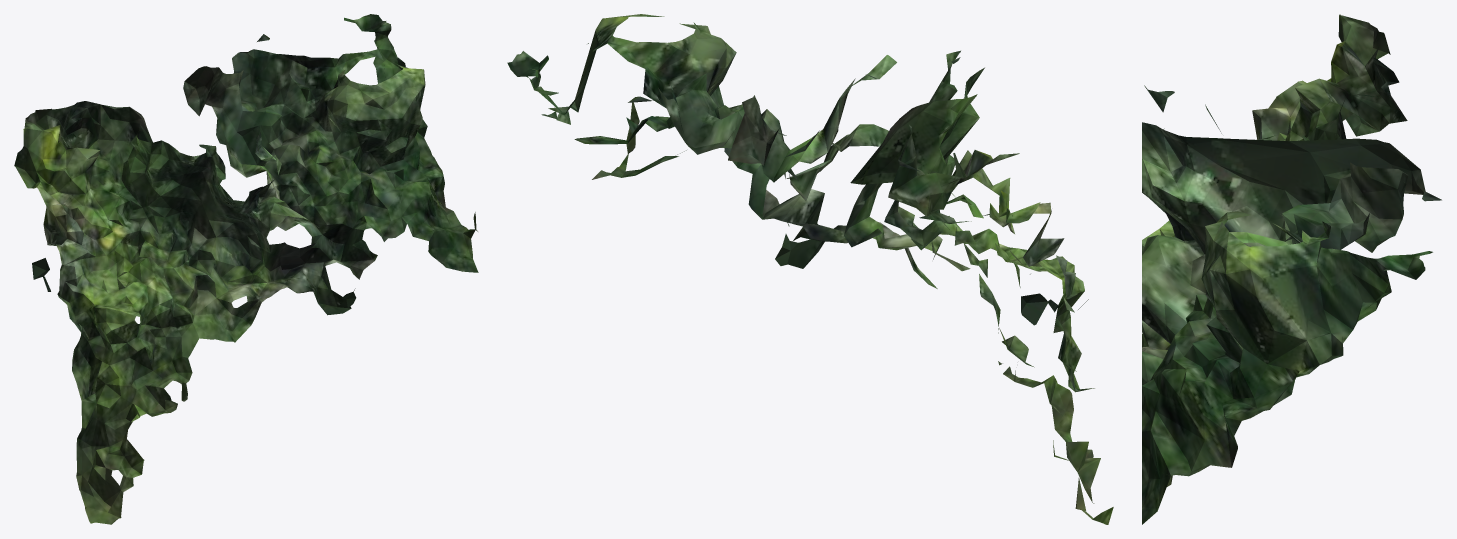
The picture shows the model from 3 angles, left to right: view 1: azimuth 30°, elevation 25°; view 2: azimuth 150°, elevation 25°; view 3: azimuth 270°, elevation 25°; orthographic projection. The views are drawn at different scales.
Size of the model in its own units: 26.11 by 22.62 by 12.91.
3 materials, 3 textured.
